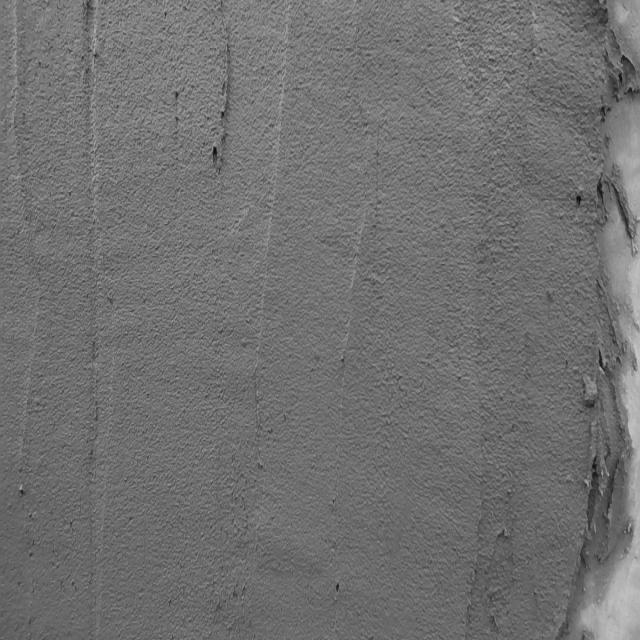trowels marks: (75, 9, 109, 580)
